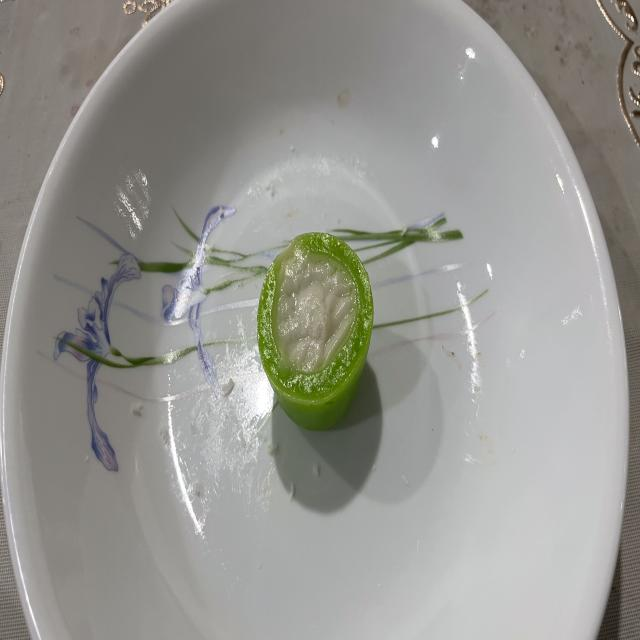nona-manis: (258, 233, 374, 429)
